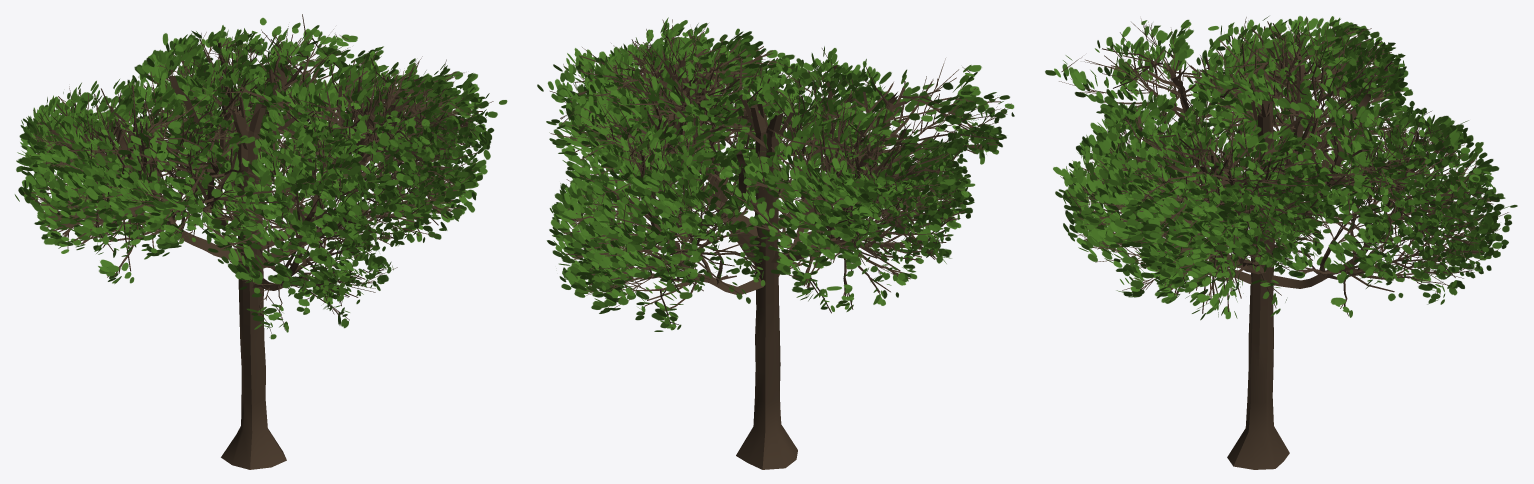
3 renders of one model, left to right at view 1: azimuth 30°, elevation 25°; view 2: azimuth 150°, elevation 25°; view 3: azimuth 270°, elevation 25°, orthographic.
Parts seen in each view (by area): view 1: oak 01.001_trunk_Mat.001_0.106; view 2: oak 01.001_trunk_Mat.001_0.106; view 3: oak 01.001_trunk_Mat.001_0.106.
Part boxes in pixels (x1=…): oak 01.001_trunk_Mat.001_0.106: x1=14, y1=14, x2=507, y2=469; oak 01.001_trunk_Mat.001_0.106: x1=537, y1=17, x2=1014, y2=469; oak 01.001_trunk_Mat.001_0.106: x1=1045, y1=16, x2=1517, y2=469.
Size of the model in its own units: 5.98 by 4.74 by 5.52.
2 materials, 1 textured.
